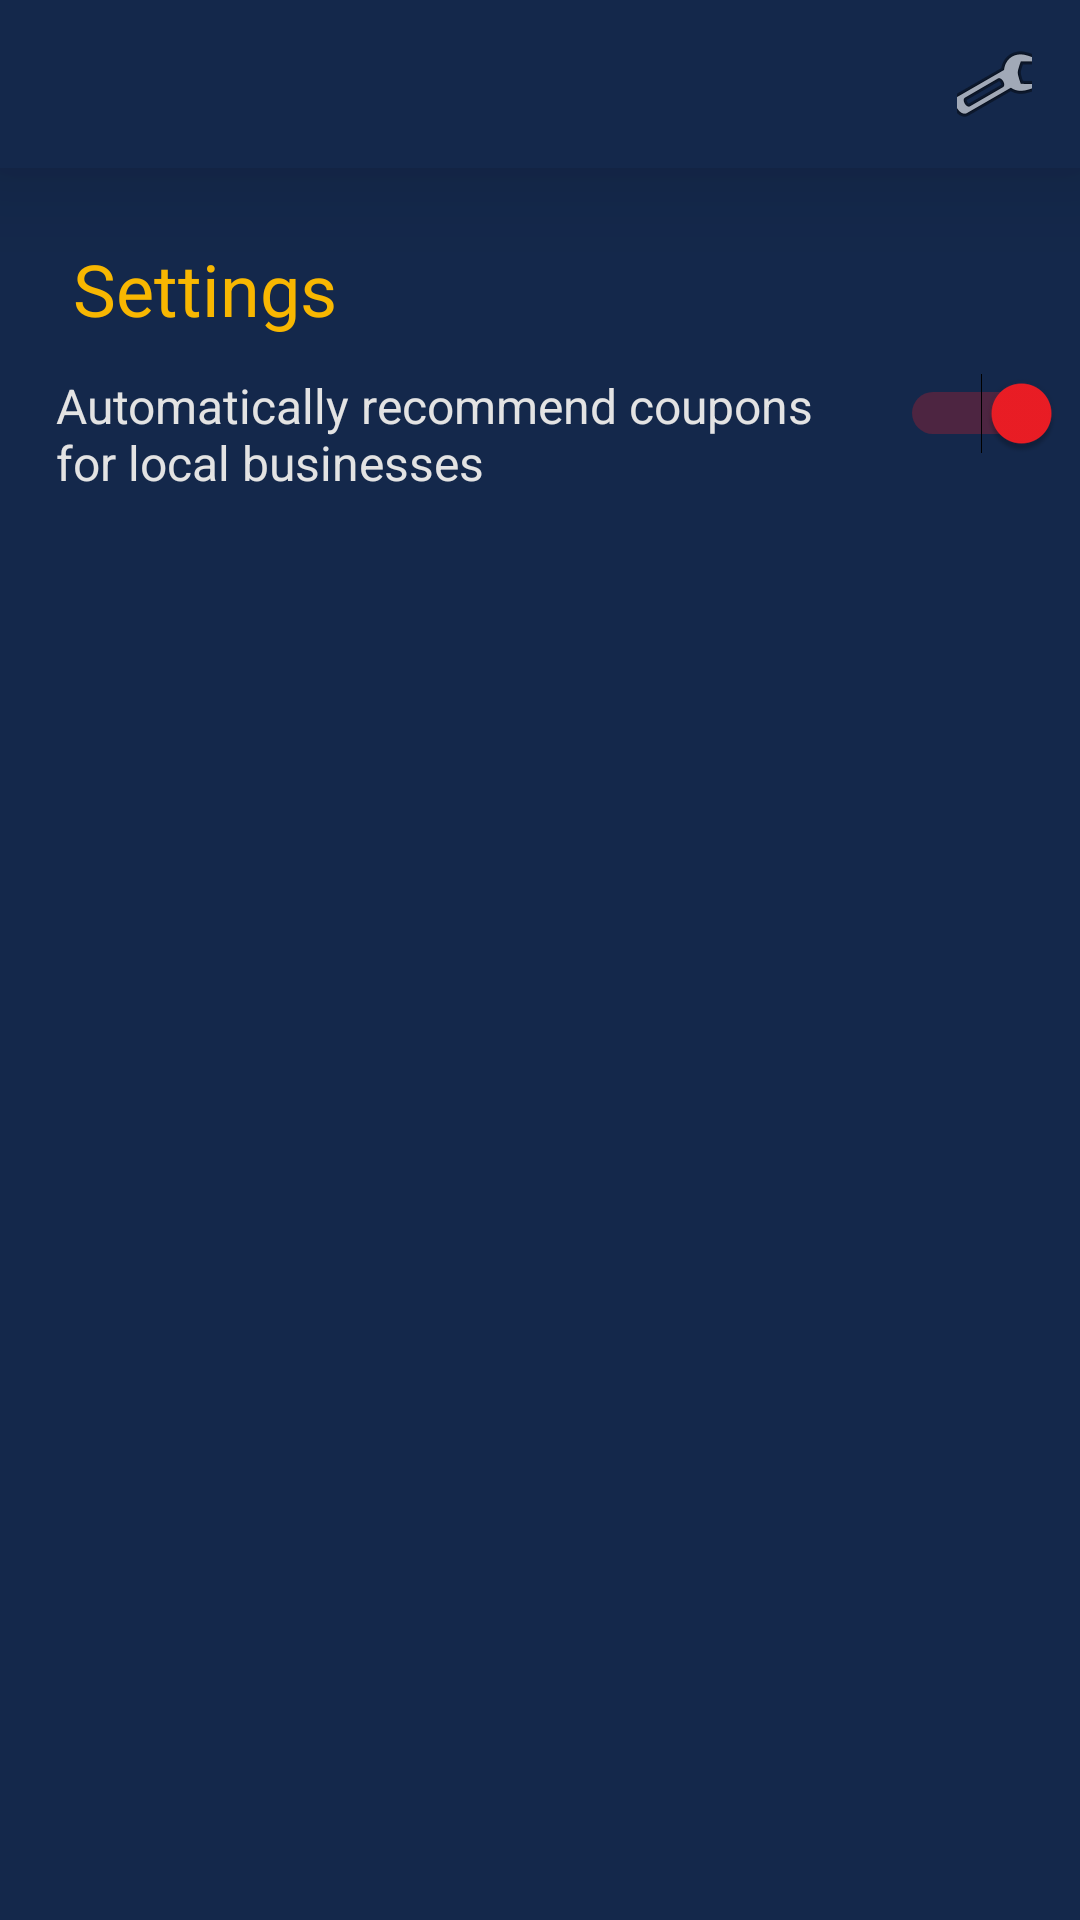

Where to tap for icons on this 1080*1920 app screen, as (x=x, y=y):
manage: (x=994, y=84)
